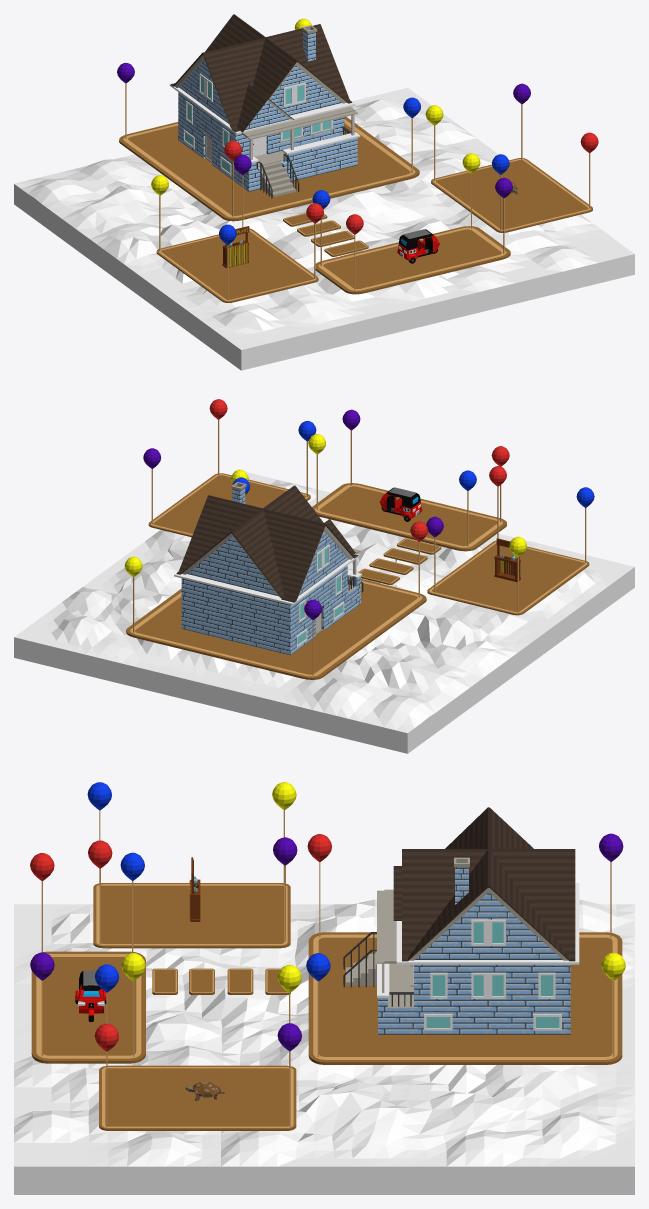
The picture shows the model from 3 angles, top to bottom: view 1: azimuth 30°, elevation 25°; view 2: azimuth 150°, elevation 25°; view 3: azimuth 270°, elevation 25°; orthographic projection. The views are drawn at different scales.
Parts seen in each view (by area): view 1: Cube.013, Cube.547, VEHICLES_TUC_TUC, OBJRANDOM_LEMONADE_STAND; view 2: Cube.013, Cube.547, VEHICLES_TUC_TUC, OBJRANDOM_LEMONADE_STAND; view 3: Cube.013, Cube.547, VEHICLES_TUC_TUC, OBJRANDOM_LEMONADE_STAND.
Boxes of the visible parts, x1,y1,x2,y2 form: Cube.013: (14, 18, 634, 370); Cube.547: (169, 14, 360, 198); VEHICLES_TUC_TUC: (397, 229, 439, 263); OBJRANDOM_LEMONADE_STAND: (222, 226, 249, 268); Cube.013: (14, 399, 634, 753); Cube.547: (174, 482, 363, 655); VEHICLES_TUC_TUC: (379, 487, 422, 521); OBJRANDOM_LEMONADE_STAND: (494, 538, 520, 581); Cube.013: (14, 782, 634, 1194); Cube.547: (343, 807, 579, 1034); VEHICLES_TUC_TUC: (75, 970, 106, 1021); OBJRANDOM_LEMONADE_STAND: (189, 857, 200, 921).
Bounding box in the file's own units: 4000 × 1638 × 4000.
Materials: 39 (3 with a texture image).
